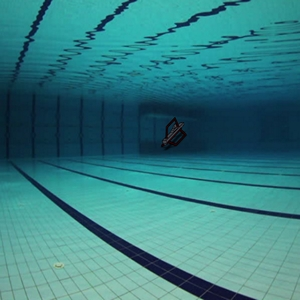submarine: (155, 113, 194, 153)
